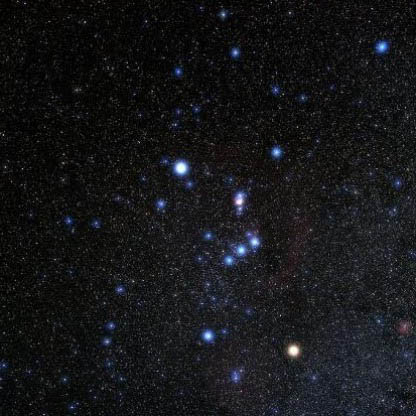Orion: (167, 150, 191, 180), (278, 337, 305, 362), (195, 324, 221, 346), (267, 143, 288, 163), (248, 228, 264, 254), (234, 239, 247, 264), (222, 252, 234, 271)
